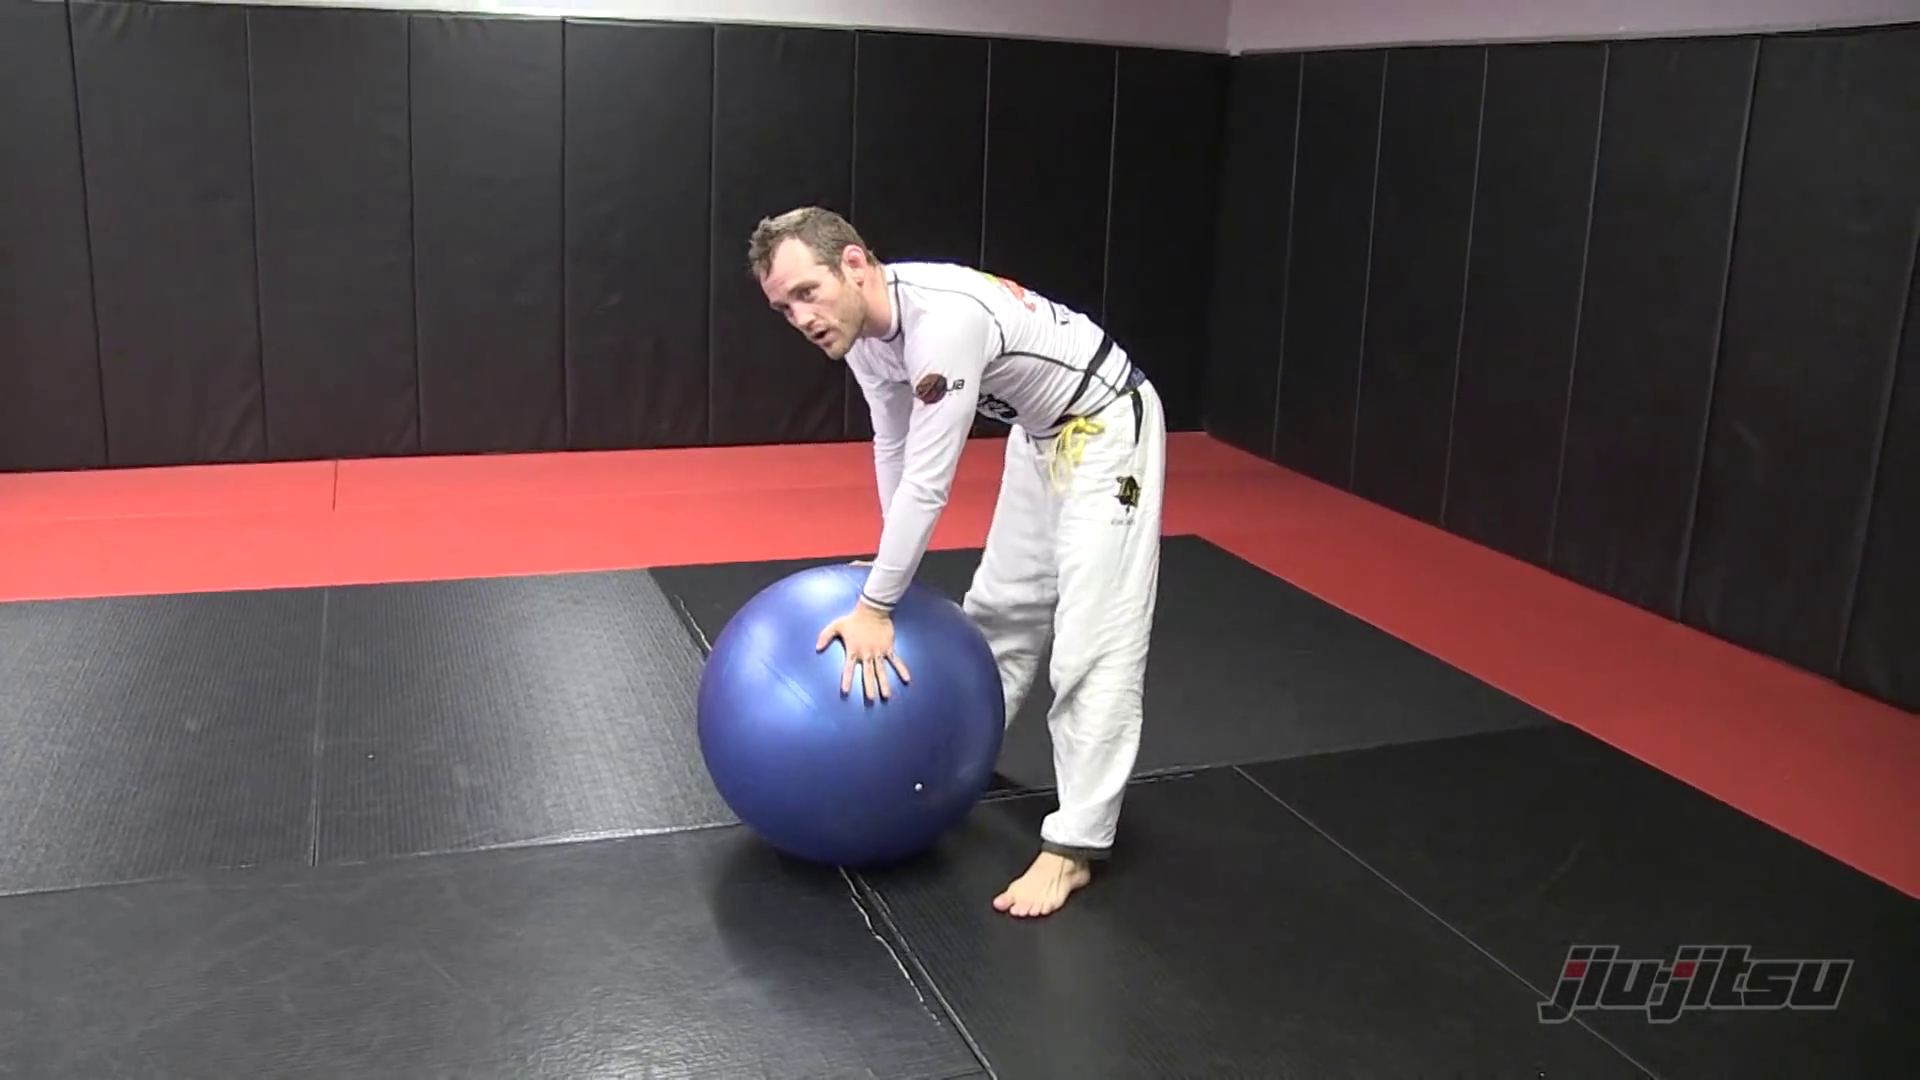yogaball: (676, 560, 1019, 870)
